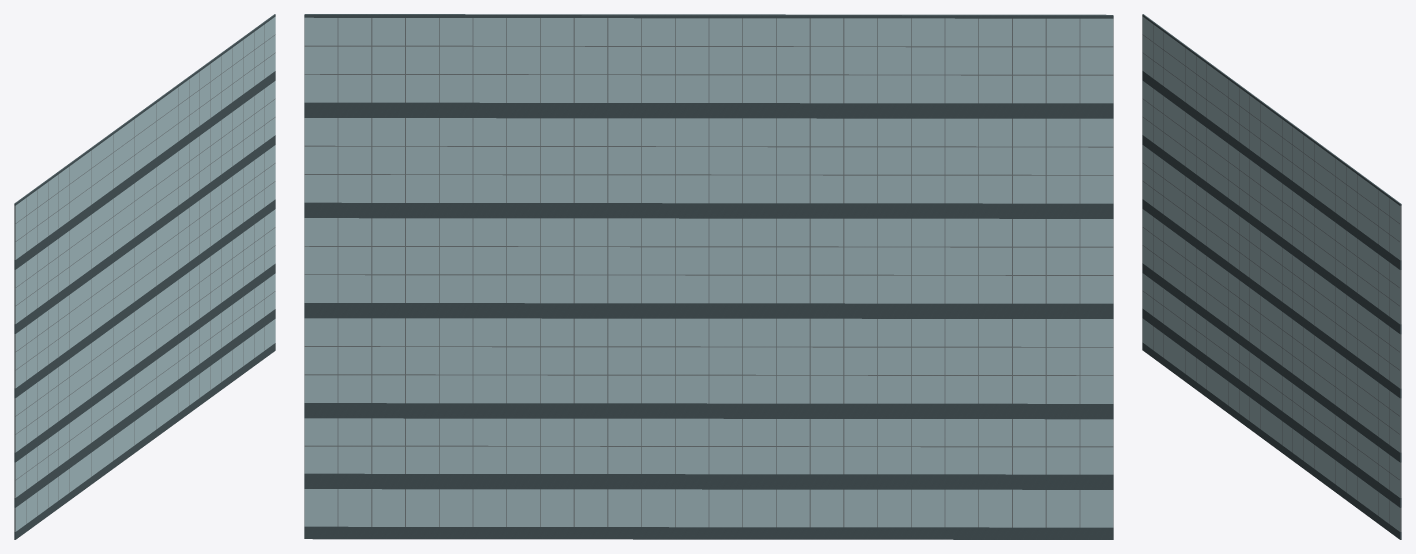
The model's file is G7_MiddleExteriorSkin_E00_r001.glb.
The picture shows the model from 3 angles, left to right: view 1: azimuth 30°, elevation 25°; view 2: azimuth 150°, elevation 25°; view 3: azimuth 270°, elevation 25°; orthographic projection. The views are drawn at different scales.
Visible parts, largest first — view 1: G7_MiddleSkin_E00_glazing, G7_MiddleSkin_E00_spandrel, G7_MiddleSkin_E00_joint; view 2: G7_MiddleSkin_E00_glazing, G7_MiddleSkin_E00_spandrel, G7_MiddleSkin_E00_joint; view 3: G7_MiddleSkin_E00_glazing, G7_MiddleSkin_E00_spandrel, G7_MiddleSkin_E00_joint.
Boxes of the visible parts, <box> form: G7_MiddleSkin_E00_glazing: <box>15,16,275,531</box>; G7_MiddleSkin_E00_spandrel: <box>14,14,275,539</box>; G7_MiddleSkin_E00_joint: <box>14,24,275,531</box>; G7_MiddleSkin_E00_glazing: <box>304,17,1113,527</box>; G7_MiddleSkin_E00_spandrel: <box>304,14,1113,539</box>; G7_MiddleSkin_E00_joint: <box>304,18,1113,527</box>; G7_MiddleSkin_E00_glazing: <box>1142,17,1399,531</box>; G7_MiddleSkin_E00_spandrel: <box>1142,14,1401,539</box>; G7_MiddleSkin_E00_joint: <box>1142,16,1401,531</box>.
Bounding box in the file's own units: 54.03 × 44.5 × 31.11.
3 materials, 2 textured.
